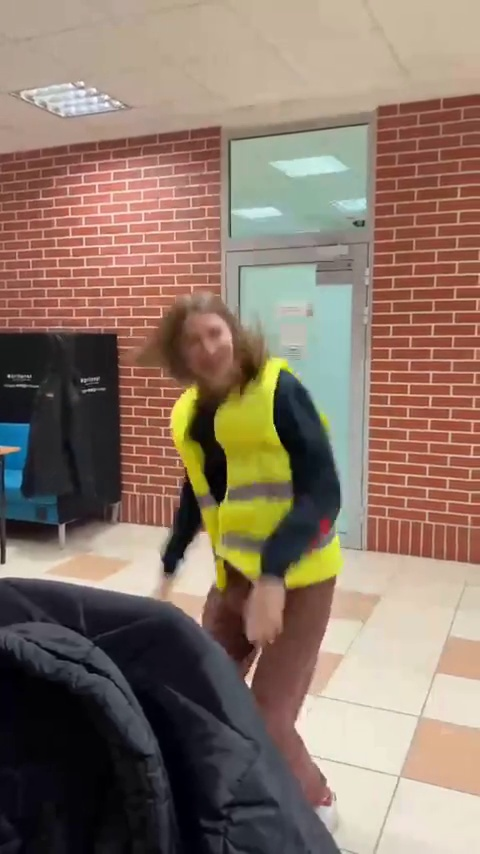vest: (133, 288, 357, 831)
